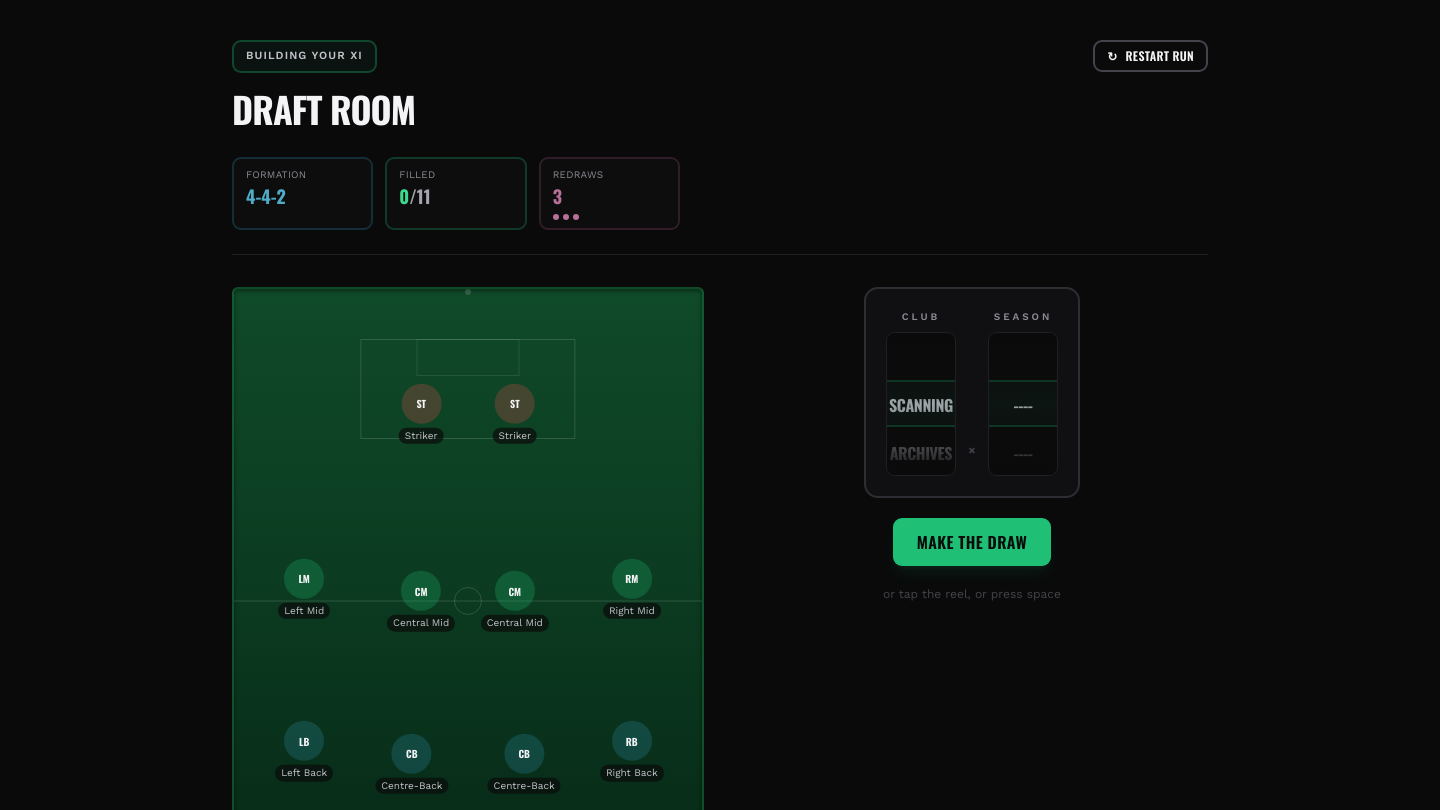
Test: DraftPage — live squad-ratings panel updates progressively during the draft › shows no OVERALL panel before the first pick, then a live per-unit readout after it
The width and height of the screenshot is (1440, 810).
Expected: the text "overall" is not shown
Click the button "Make the Draw" at [972, 542], box left=893, top=518, right=1051, bottom=566
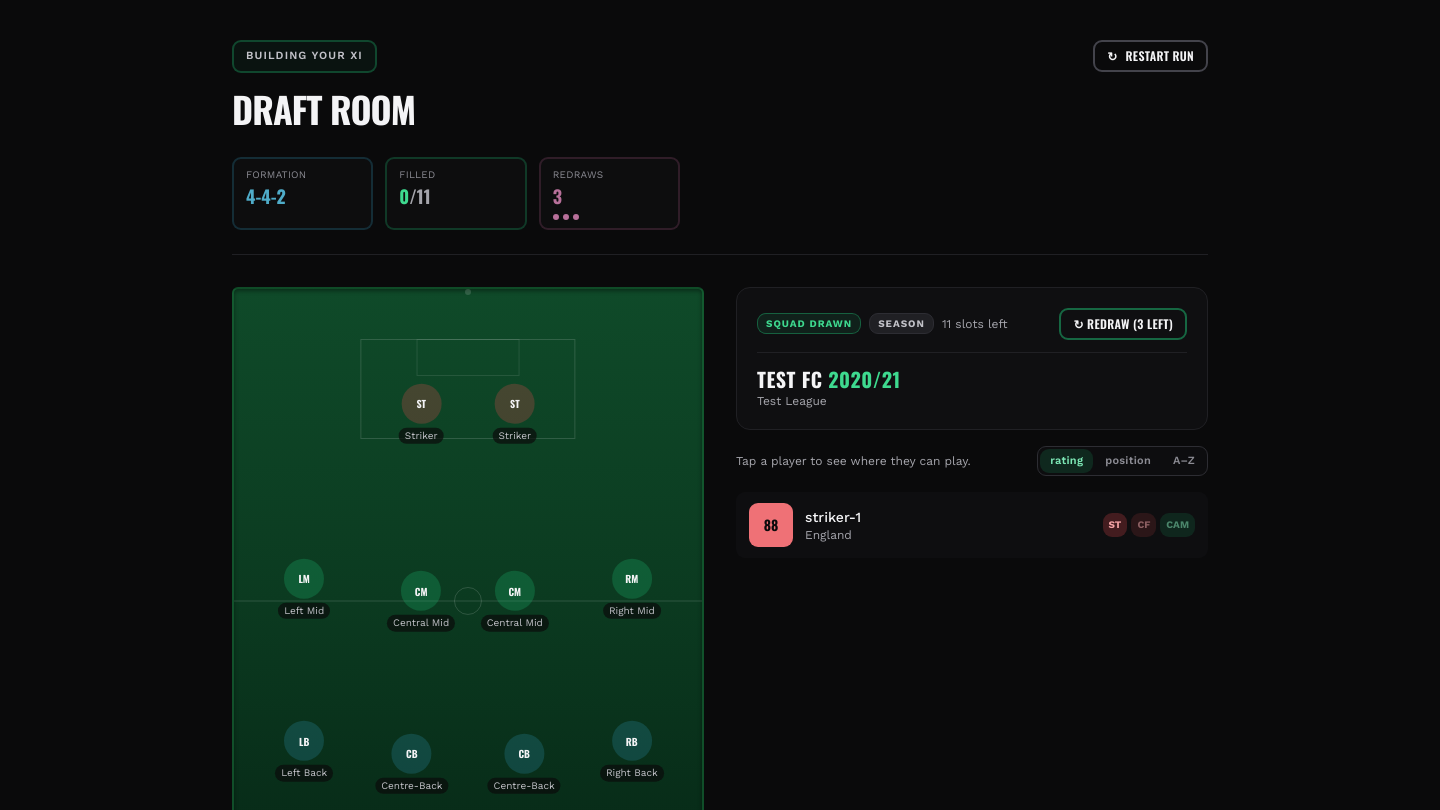
Now the text "striker-1" is shown, box left=805, top=509, right=861, bottom=525
Click the button "88 striker-1 England ST CF CAM" at [771, 525], box left=736, top=492, right=1208, bottom=558
(page scrolled)
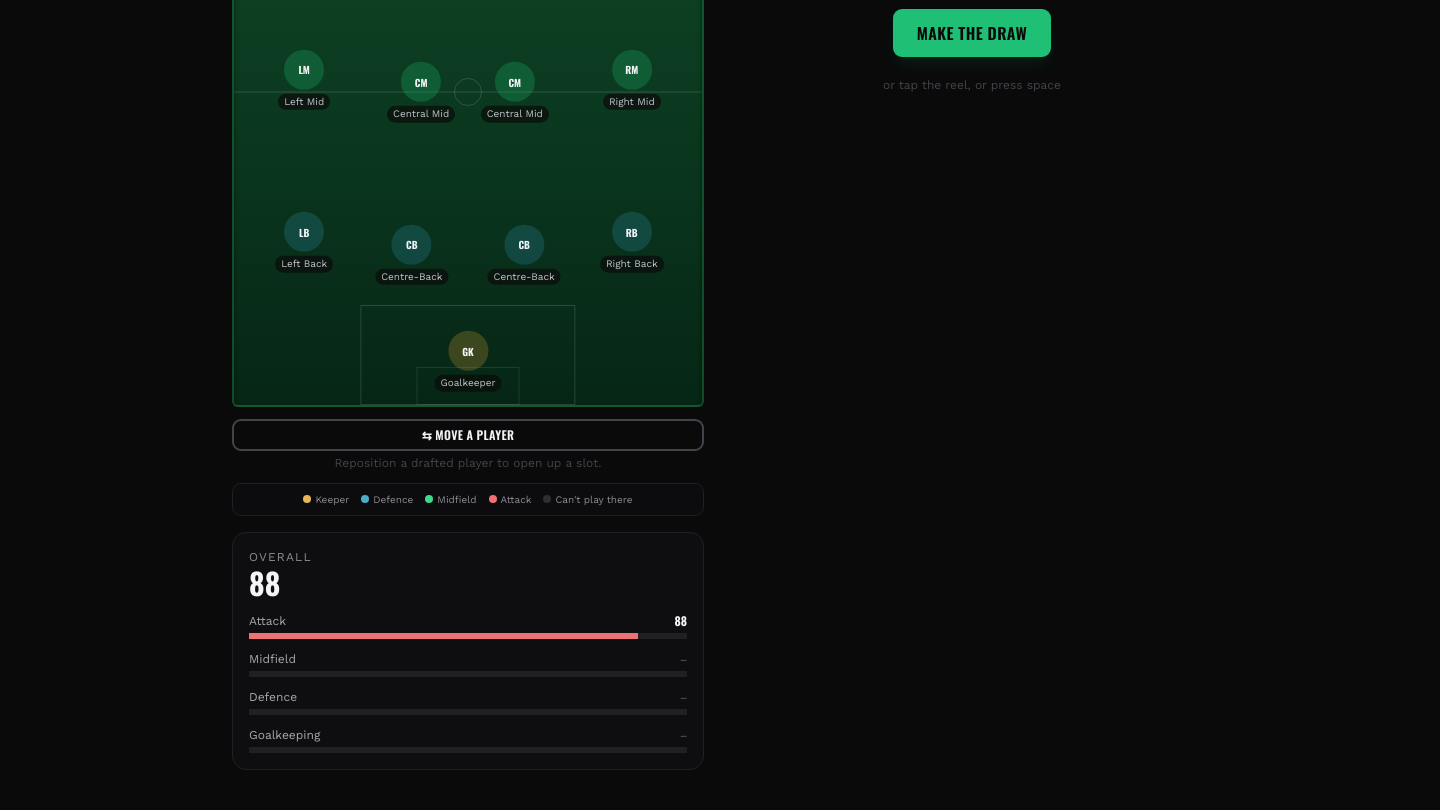
Now the text "Overall" is shown, box left=249, top=550, right=312, bottom=564
Now the text "–" is shown 3 times, box left=680, top=651, right=687, bottom=667; left=680, top=689, right=687, bottom=705; left=680, top=727, right=687, bottom=743
